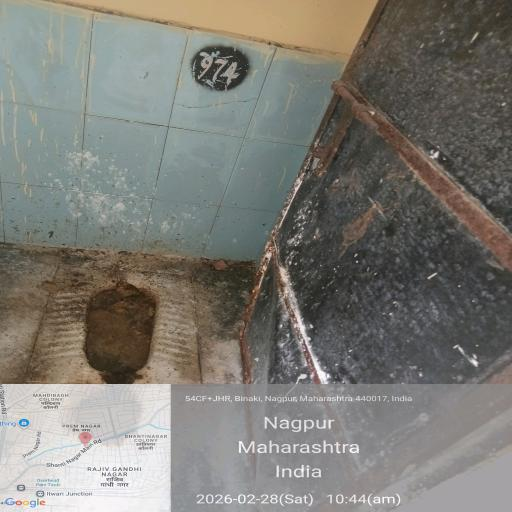dirty_floor: (283, 85, 512, 512), (0, 233, 349, 512), (15, 25, 311, 214)
dirty_indian: (12, 248, 266, 436)
